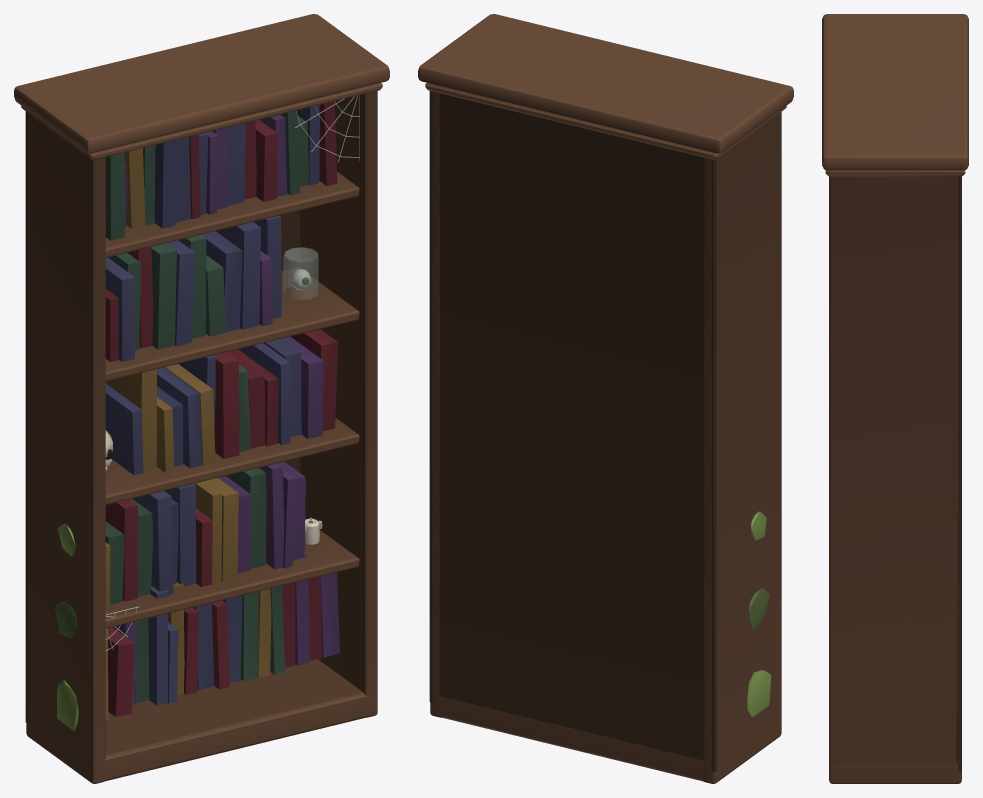
Rendered from shelf_moldering.glb.
3 views of the same model, side by side, from view 1: azimuth 30°, elevation 25°; view 2: azimuth 150°, elevation 25°; view 3: azimuth 270°, elevation 25° (orthographic). The views are drawn at different scales.
Parts seen in each view (by area): view 1: shelf_moldering; view 2: shelf_moldering; view 3: shelf_moldering.
Part boxes in pixels (bbox=[...]): shelf_moldering: bbox=[14, 14, 389, 783]; shelf_moldering: bbox=[418, 14, 793, 783]; shelf_moldering: bbox=[822, 14, 968, 783].
Size of the model in its own units: 0.98 by 2 by 0.42.
